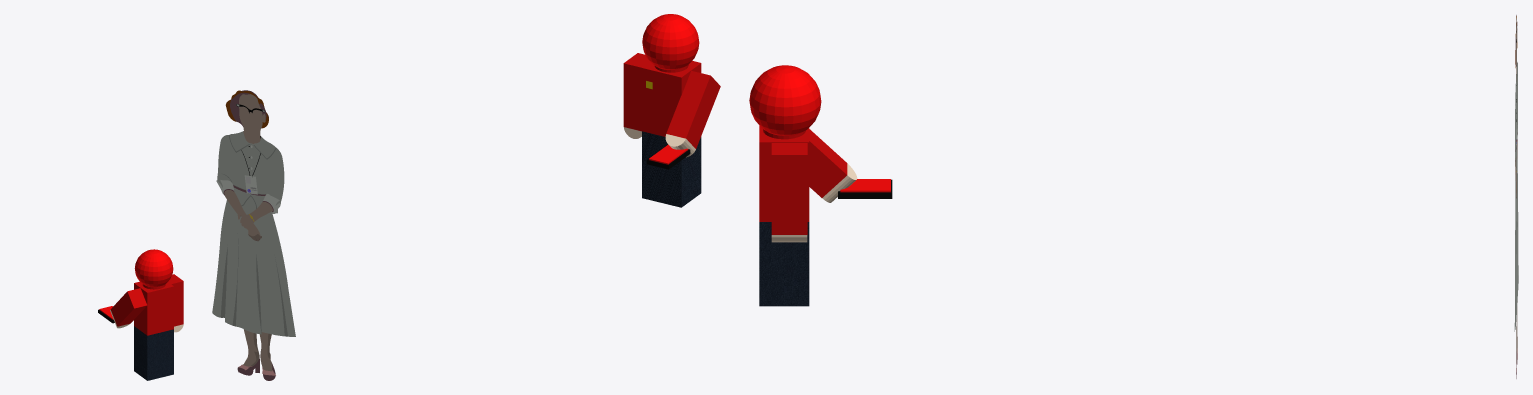
Rendered from model 2 (red) small.3ds.glb.
3 views of the same model, side by side, from view 1: azimuth 30°, elevation 25°; view 2: azimuth 150°, elevation 25°; view 3: azimuth 270°, elevation 25° (orthographic). The views are drawn at different scales.
Visible parts, largest first — view 1: Model, leg2, Group2, leg1, Group1, Group3; view 2: Katherine_, Model, Group2, leg2, Group1, leg1, Group3; view 3: Model, leg1, Group1, Group2, Katherine_, Group3.
Boxes of the visible parts, x1,y1,x2,y2 form: Model: (134,249,173,335); leg2: (134,326,160,380); Group2: (110,288,147,326); leg1: (160,329,173,377); Group1: (168,274,183,326); Group3: (98,306,114,323); Katherine_: (212,90,295,380); Model: (642,14,701,136); Group2: (666,71,720,148); leg2: (661,136,701,207); Group1: (623,53,649,131); leg1: (642,131,661,202); Group3: (646,144,690,169); Model: (749,65,821,221); leg1: (759,222,809,306); Group1: (771,143,807,234); Group2: (809,129,847,197); Katherine_: (1514,15,1518,378); Group3: (838,179,892,198).
Size of the model in its own units: 324 by 422 by 817.
Materials: 30 (2 with a texture image).
